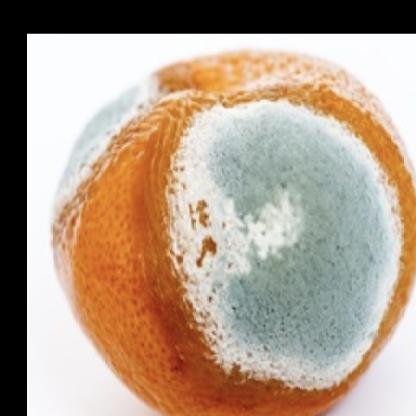rotten: (49, 52, 416, 416)
